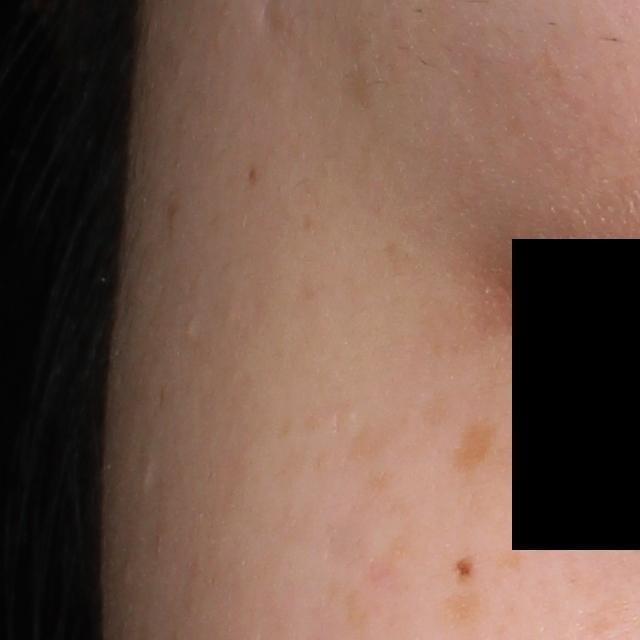comedo: (183, 316, 200, 341)
melasma: (344, 417, 407, 472), (454, 422, 494, 471), (441, 590, 489, 627), (495, 546, 531, 578)
nevus: (456, 556, 471, 577)
